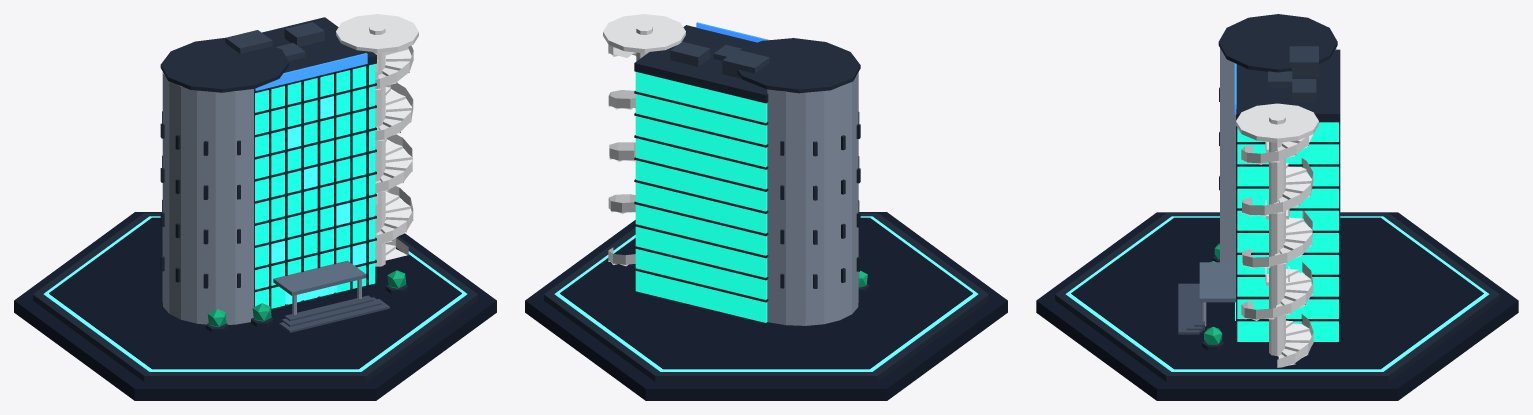
Rendered from uit_hq.glb.
3 views of the same model, side by side, from view 1: azimuth 30°, elevation 25°; view 2: azimuth 150°, elevation 25°; view 3: azimuth 270°, elevation 25° (orthographic).
Visible parts, largest first — view 1: Cylinder.003, UIT_Curved_Tower, UIT_Glass_Core, Cylinder, Cylinder.001, UIT_Spiral_Staircase, Cylinder.004, Stairs_Crown_Canopy, Cylinder.002, Cube.057, Stair_Central_Column, Entrance_Portal_Slab (+13 smaller); view 2: UIT_Glass_Core, Cylinder.003, UIT_Curved_Tower, Cylinder, Cylinder.001, Cylinder.004, Cube.057, Stairs_Crown_Canopy, Cylinder.002, UIT_Spiral_Staircase, Cube.058, Cube.059 (+2 smaller); view 3: Cylinder.003, Cylinder, UIT_Glass_Core, Cylinder.001, UIT_Spiral_Staircase, Cylinder.004, Cube.057, UIT_Curved_Tower, Stair_Central_Column, Cylinder.002, Stairs_Crown_Canopy, Entrance_Portal_Slab (+4 smaller).
Boxes of the visible parts, <box> form: Cylinder.003: <box>49,217,461,369</box>; UIT_Curved_Tower: <box>162,72,253,324</box>; UIT_Glass_Core: <box>255,64,375,308</box>; Cylinder: <box>14,212,496,400</box>; Cylinder.001: <box>33,213,477,381</box>; UIT_Spiral_Staircase: <box>375,45,413,260</box>; Cylinder.004: <box>160,38,288,92</box>; Stairs_Crown_Canopy: <box>336,14,418,53</box>; Cylinder.002: <box>43,216,467,371</box>; Cube.057: <box>254,17,376,91</box>; Stair_Central_Column: <box>369,24,385,266</box>; Entrance_Portal_Slab: <box>273,260,366,295</box>; UIT_Glass_Core: <box>635,72,767,322</box>; Cylinder.003: <box>560,217,972,369</box>; UIT_Curved_Tower: <box>767,72,858,325</box>; Cylinder: <box>525,212,1007,400</box>; Cylinder.001: <box>544,213,988,381</box>; Cylinder.004: <box>737,38,860,93</box>; Cube.057: <box>634,25,768,102</box>; Stairs_Crown_Canopy: <box>603,14,685,53</box>; Cylinder.002: <box>554,216,978,371</box>; UIT_Spiral_Staircase: <box>608,45,636,266</box>; Cube.058: <box>722,49,769,78</box>; Cube.059: <box>670,41,710,66</box>; Cylinder.003: <box>1071,217,1483,369</box>; Cylinder: <box>1036,212,1518,400</box>; UIT_Glass_Core: <box>1237,122,1338,341</box>; Cylinder.001: <box>1055,213,1499,381</box>; UIT_Spiral_Staircase: <box>1241,134,1313,367</box>; Cylinder.004: <box>1218,14,1337,72</box>; Cube.057: <box>1236,49,1340,121</box>; UIT_Curved_Tower: <box>1220,48,1336,262</box>; Stair_Central_Column: <box>1269,113,1285,356</box>; Cylinder.002: <box>1065,216,1489,371</box>; Stairs_Crown_Canopy: <box>1236,103,1318,142</box>; Entrance_Portal_Slab: <box>1199,262,1235,302</box>.
Size of the model in its own units: 17.32 by 11.97 by 20.
